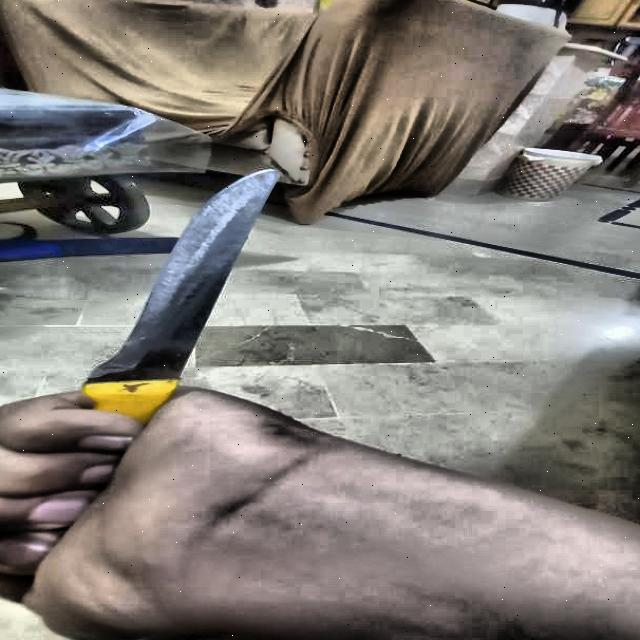knife: (84, 171, 282, 427)
